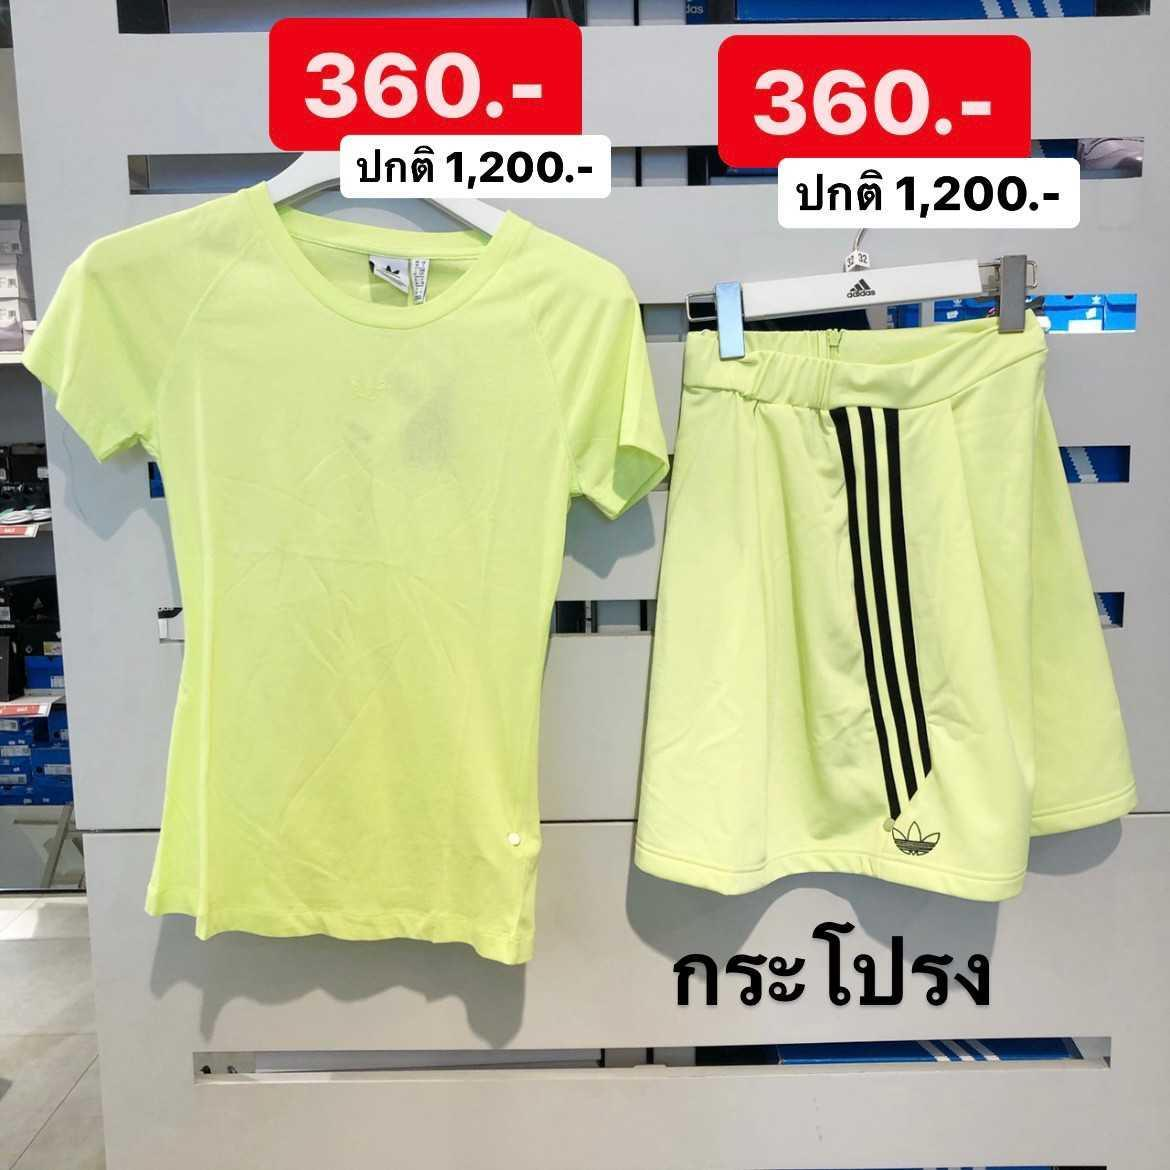Tshirt: (13, 175, 670, 984)
skirt: (613, 274, 1146, 912)
